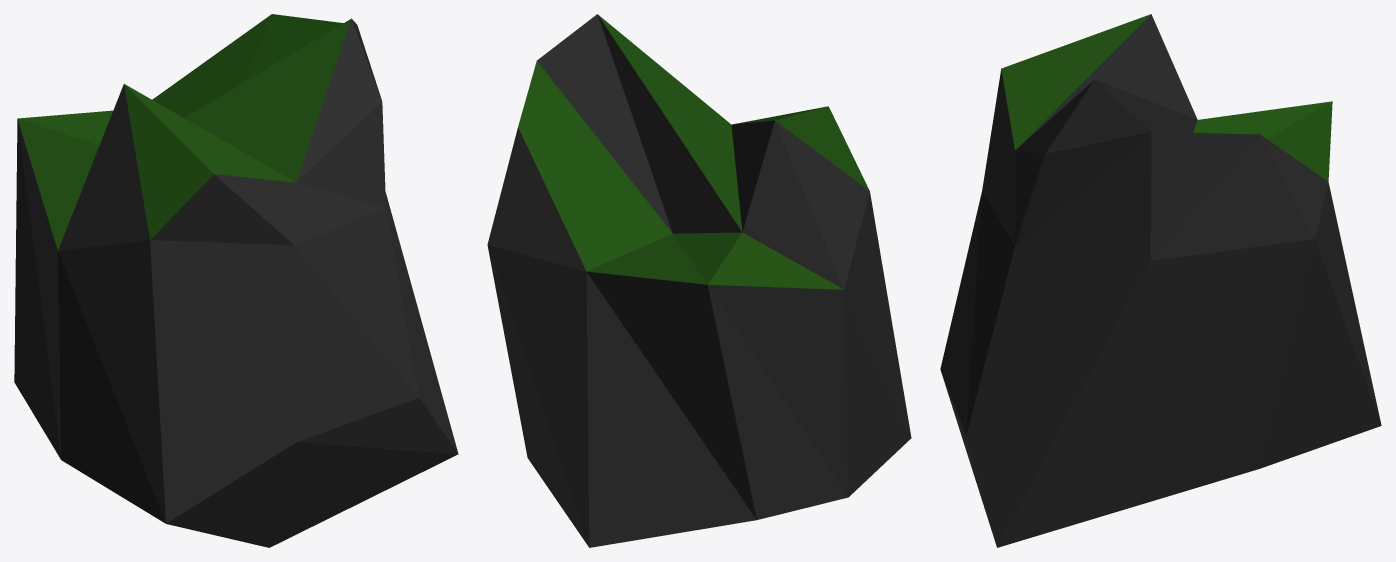
Rendered from Stone2_7.fbx.
3 views of the same model, side by side, from view 1: azimuth 30°, elevation 25°; view 2: azimuth 150°, elevation 25°; view 3: azimuth 270°, elevation 25° (orthographic). The views are drawn at different scales.
Parts seen in each view (by area): view 1: Stone2_7; view 2: Stone2_7; view 3: Stone2_7.
Boxes of the visible parts, bbox=[...] form: Stone2_7: bbox=[14, 14, 458, 547]; Stone2_7: bbox=[487, 14, 911, 547]; Stone2_7: bbox=[940, 14, 1381, 547].
Size of the model in its own units: 56.11 by 75.73 by 62.07.
